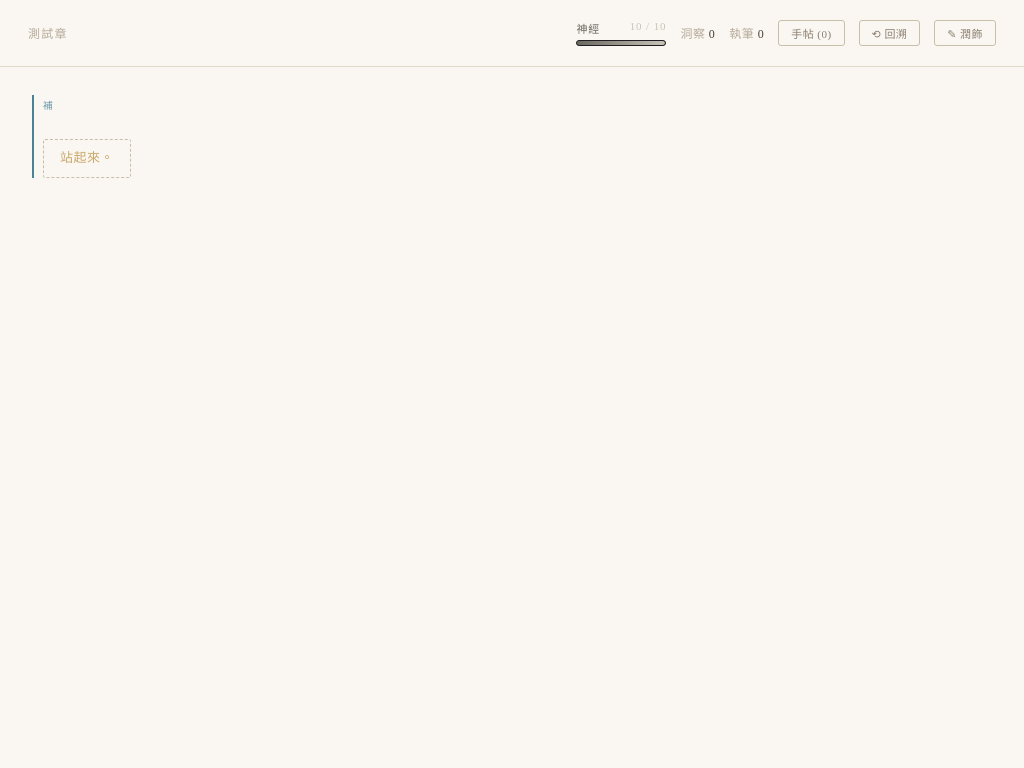
Test: HagurumaEngine — editMode 下 action/forced 不觸發互動 (Batch F6) › clicking an action block in editMode opens the editor instead of acting
Click the button "✎ 潤飾" at (965, 33), box [934, 20, 996, 46]
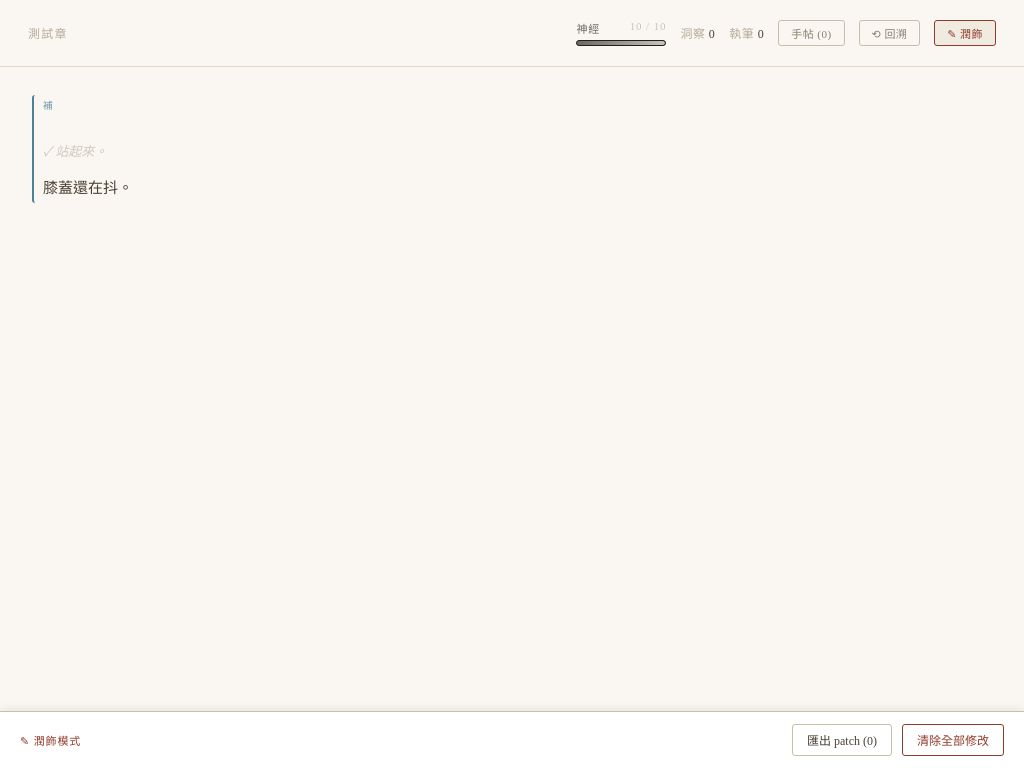
Click the element showing "✓ 站起來。 膝蓋還在抖。" at (512, 149), box [32, 95, 992, 203]
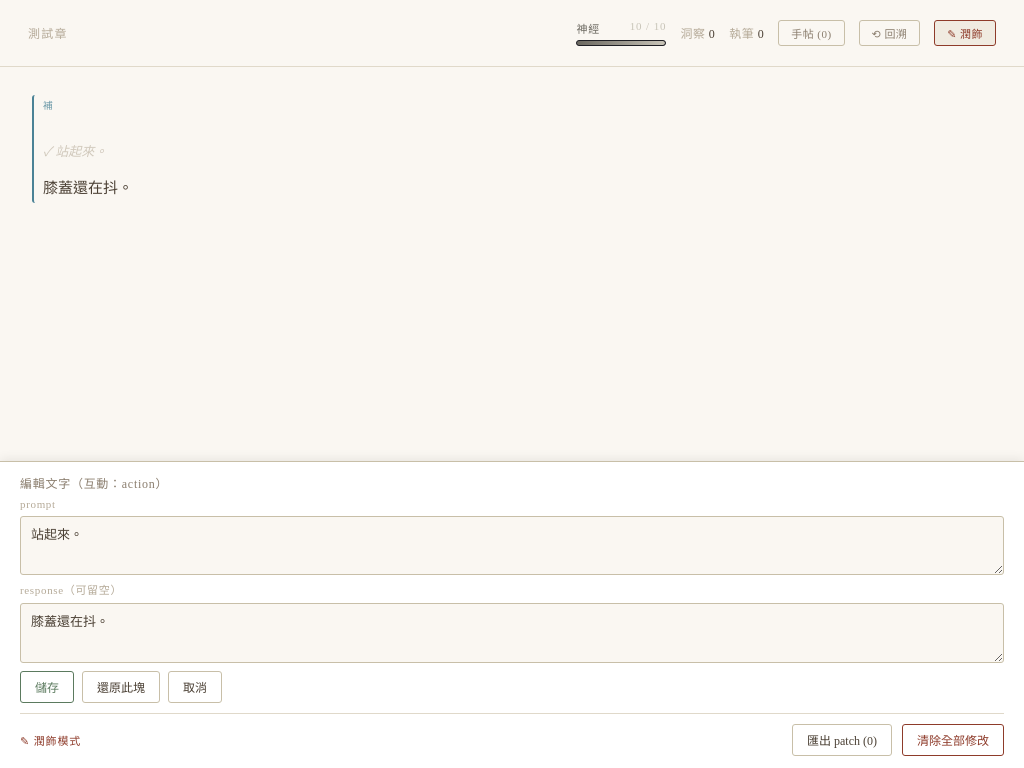
Result: the text box with id "edit-panel-prompt" holds "站起來。" at [20, 516, 1004, 575]
Result: the text box with id "edit-panel-response" holds "膝蓋還在抖。" at [20, 603, 1004, 663]
